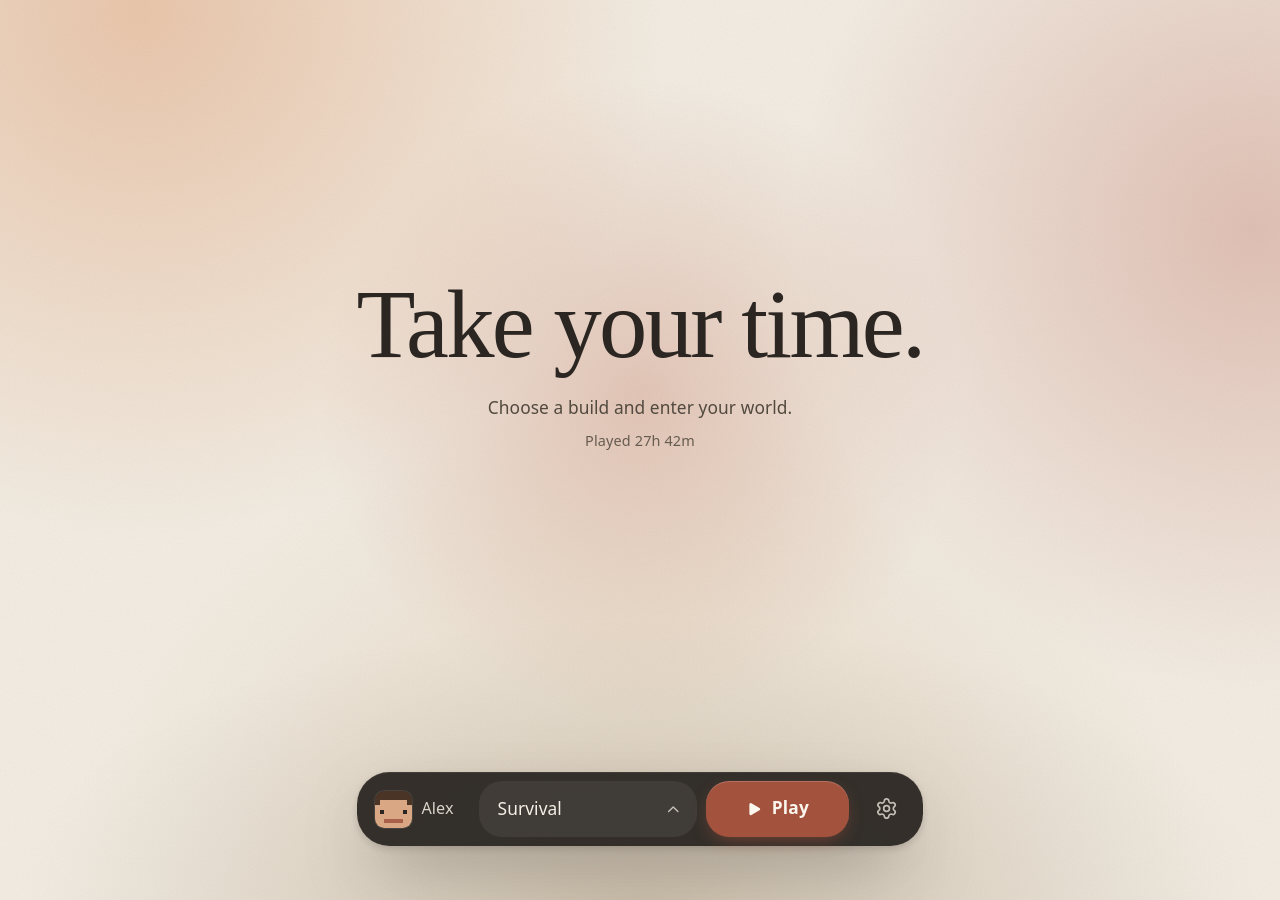
it: switching the language live › keeps the keyboard order of Settings identical in both languages
Click the button named "Settings": (886, 809) [858, 781, 914, 837]
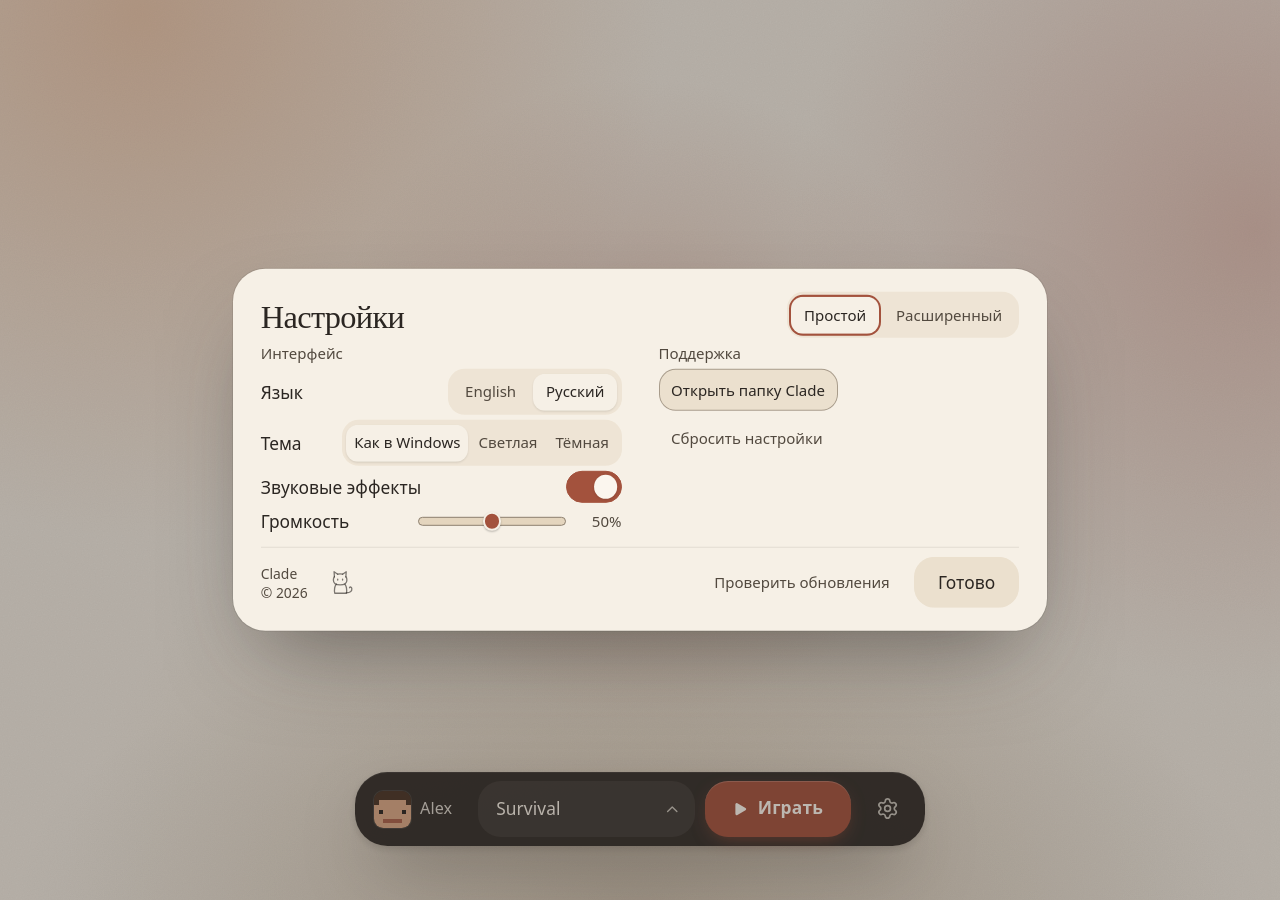
Now the dialog is shown, box [233, 269, 1047, 631]
